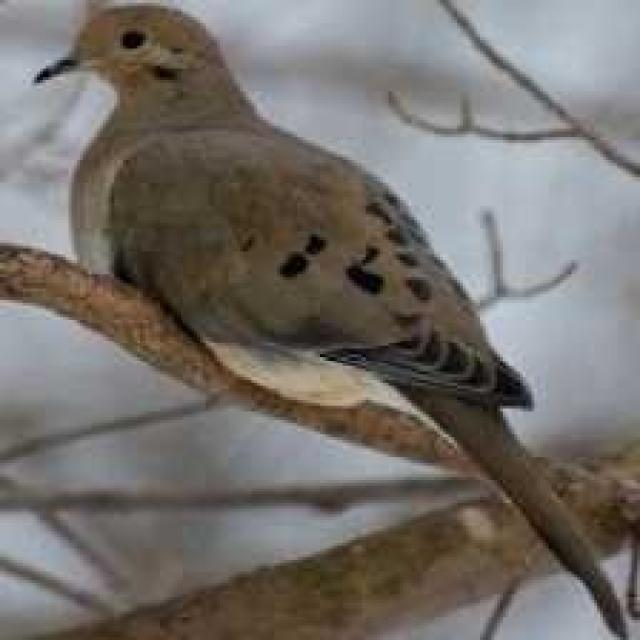dove: (36, 9, 632, 640)
